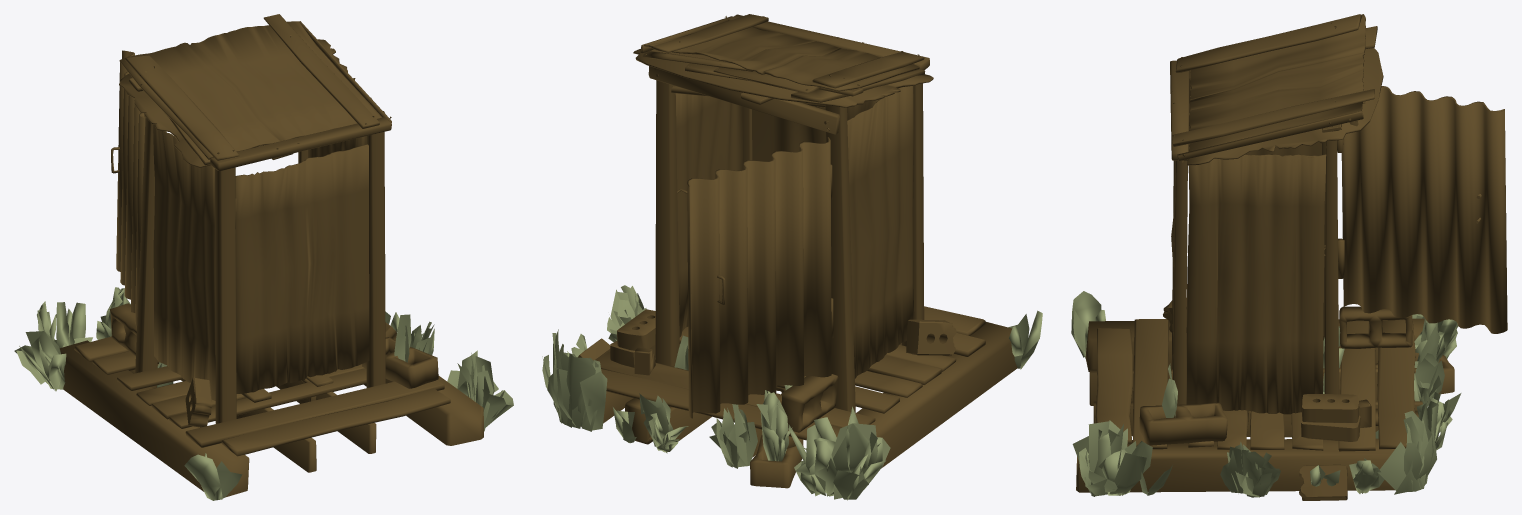
The model's file is Sketchfab_2023_12_10_03_16_06.fbx.
The picture shows the model from 3 angles, left to right: view 1: azimuth 30°, elevation 25°; view 2: azimuth 150°, elevation 25°; view 3: azimuth 270°, elevation 25°; orthographic projection. The views are drawn at different scales.
Parts seen in each view (by area): view 1: toilet, grass; view 2: toilet, grass; view 3: toilet, grass.
Part boxes in pixels (<box>): toilet: <box>59,14,483,497</box>; grass: <box>14,287,513,500</box>; toilet: <box>578,14,1017,488</box>; grass: <box>542,285,1042,500</box>; toilet: <box>1076,14,1507,500</box>; grass: <box>1071,291,1461,497</box>.
Bounding box in the file's own units: 216 × 213 × 232.
